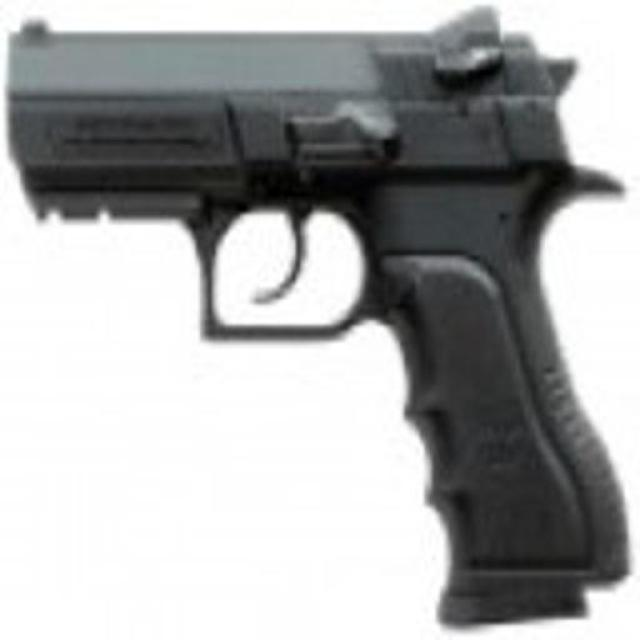pistol: (15, 15, 627, 629)
